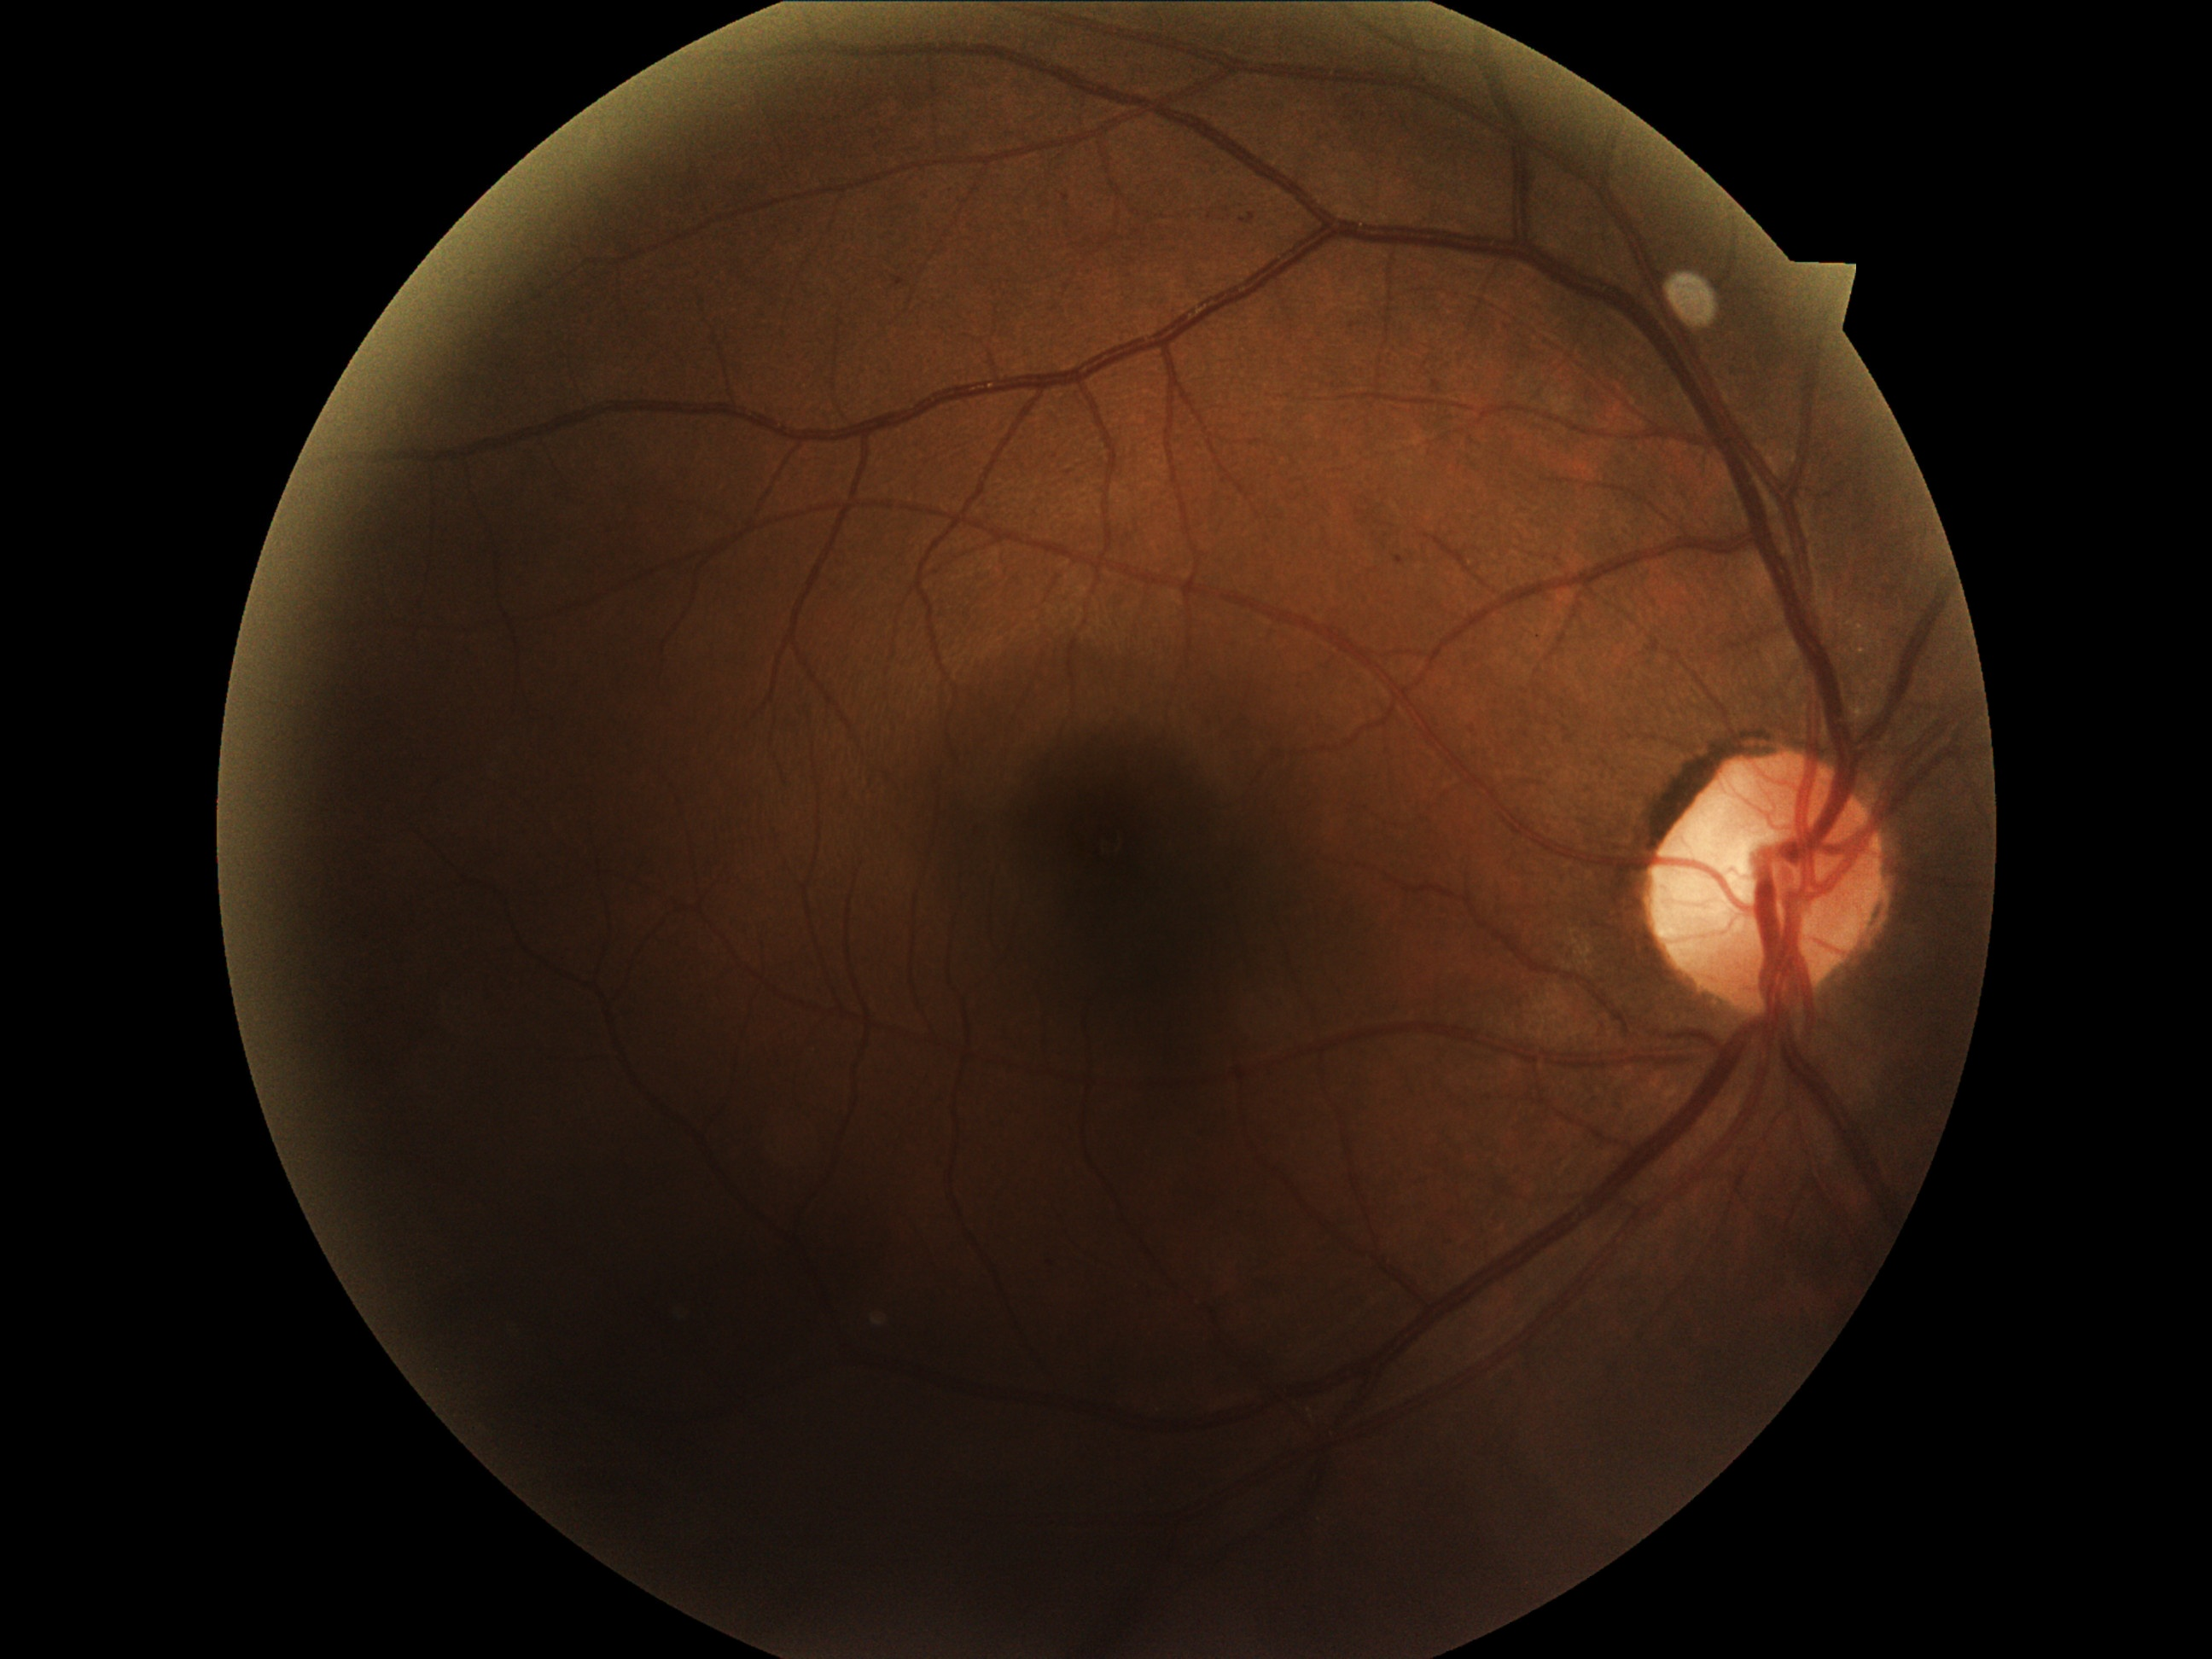Fovea: (981, 737, 1233, 941)
OD: (1616, 728, 1914, 1023)
